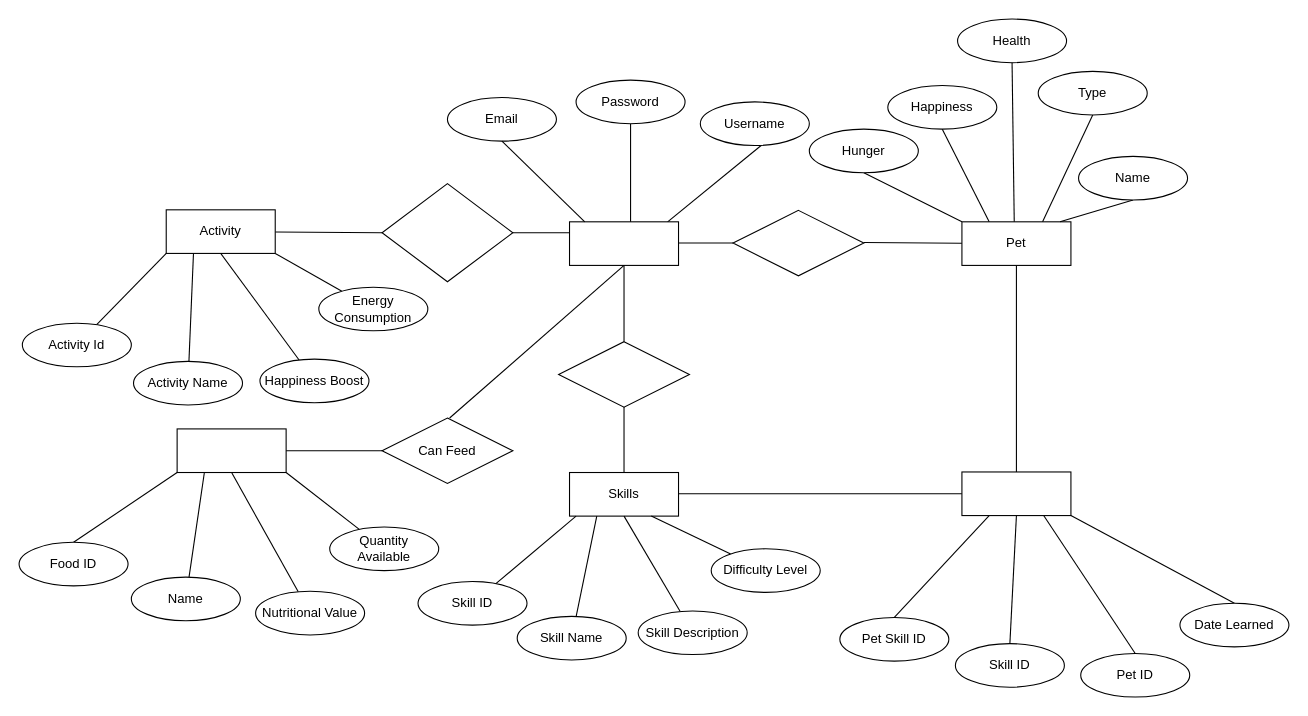
Some shapes in this 1308 by 716 pixel diagram are drawn without their labels. Each missing label, with the centre of its shape:
"Can Teach" belongs at point 623,374.
"Food" belongs at point 231,450.
"Is Assigned" belongs at point 798,242.
"Pet Skills" belongs at point 1016,493.
"The user can Play" belongs at point 447,232.
"User" belongs at point 623,243.
